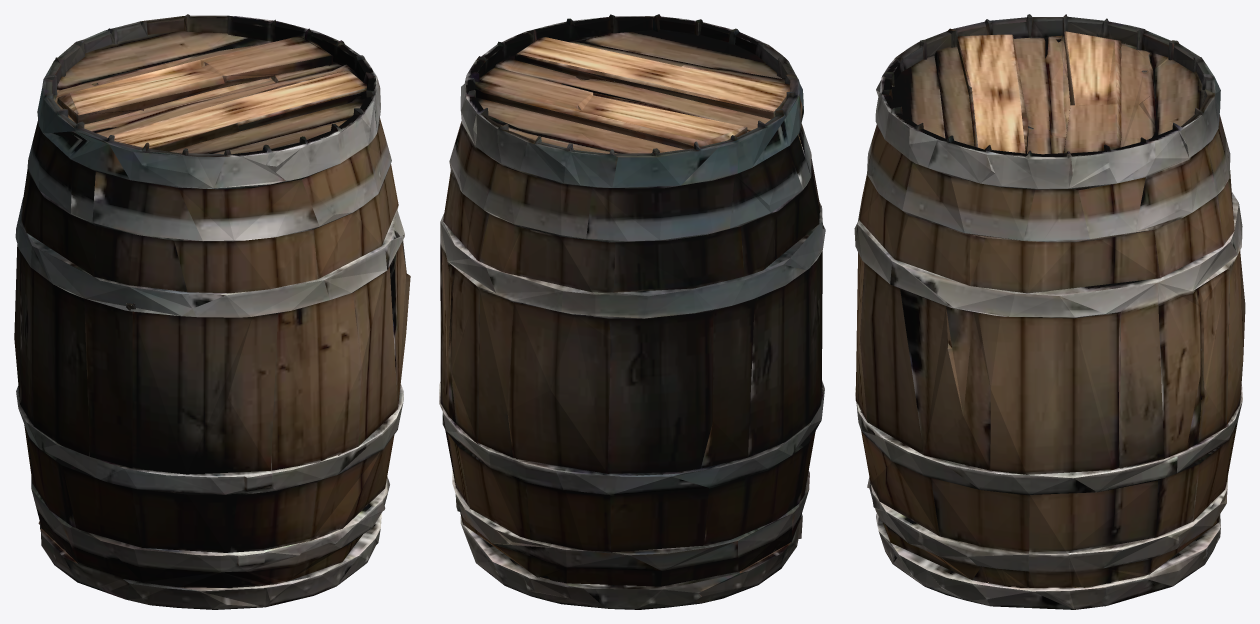
Rendered from blacksmith_water_barrel_01.glb.
3 renders of one model, left to right at view 1: azimuth 30°, elevation 25°; view 2: azimuth 150°, elevation 25°; view 3: azimuth 270°, elevation 25°, orthographic.
Visible parts, largest first — view 1: geometry_0; view 2: geometry_0; view 3: geometry_0.
Part boxes in pixels (x1,y1,x2,y2): geometry_0: (14,14,410,609); geometry_0: (439,14,825,609); geometry_0: (854,14,1245,609).
Size of the model in its own units: 0.761 by 0.9988 by 0.7705.
Materials: 1 (1 with a texture image).
